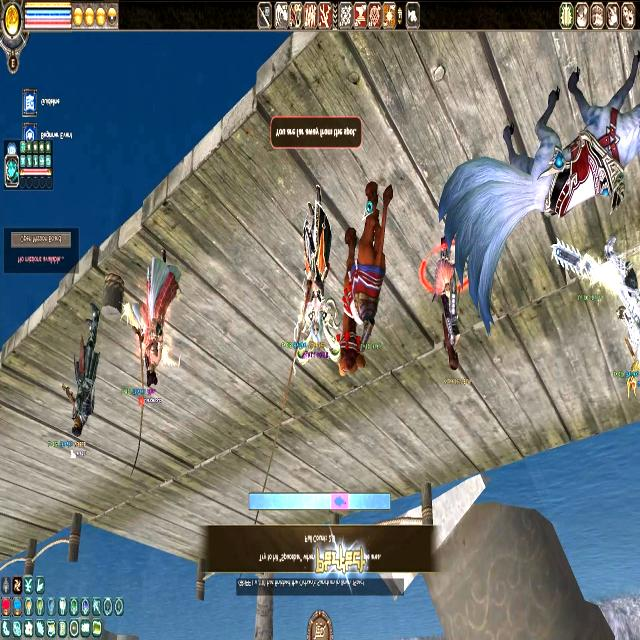fishes: (333, 495, 348, 509)
